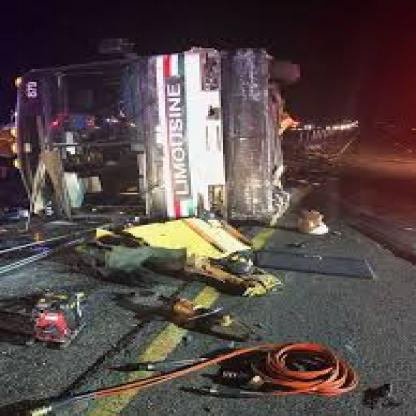accident: (15, 28, 378, 262)
